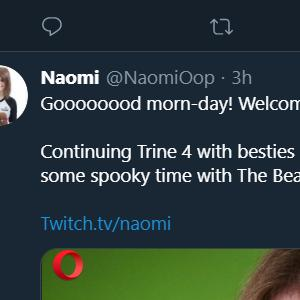opera: (52, 249, 84, 282)
